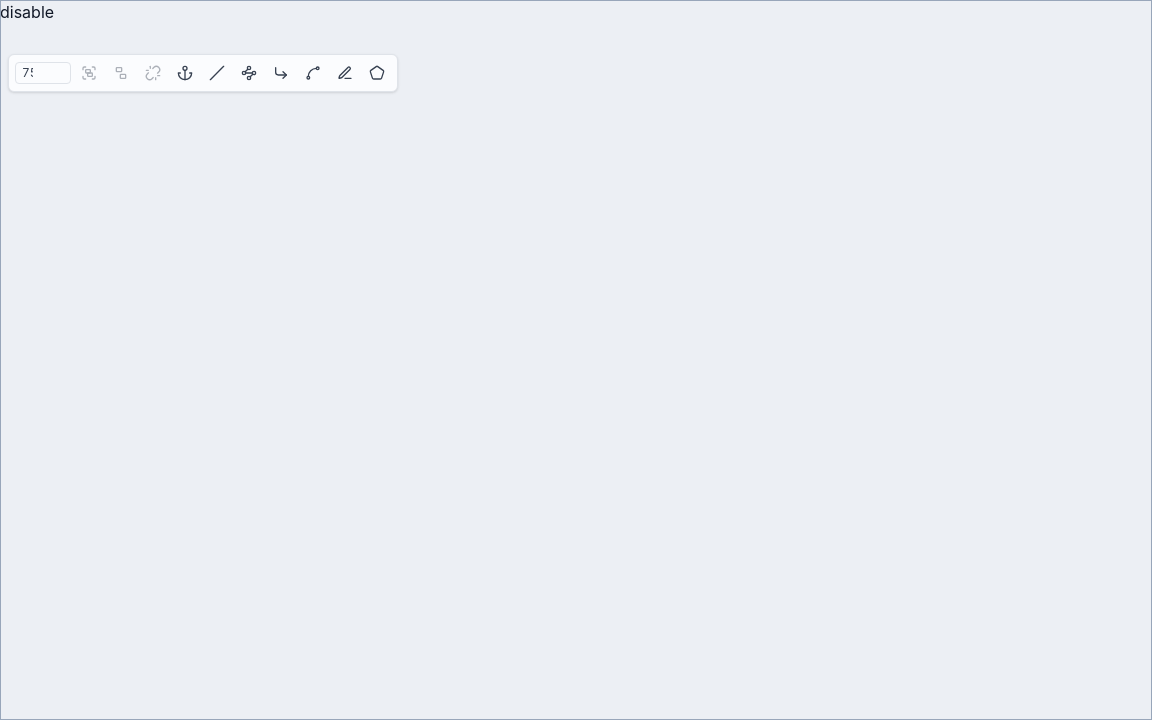
Test: 선과 텍스트에는 더할 수 없고, 그 사실을 화면이 말한다 (AC-24) › 도구를 끄면 안내가 걷힌다 — 그 도구에 대한 말이기 때문이다
Click the button with test id "canvas-anchor-tool".
click(185, 73)  # box 171,59 -> 199,87
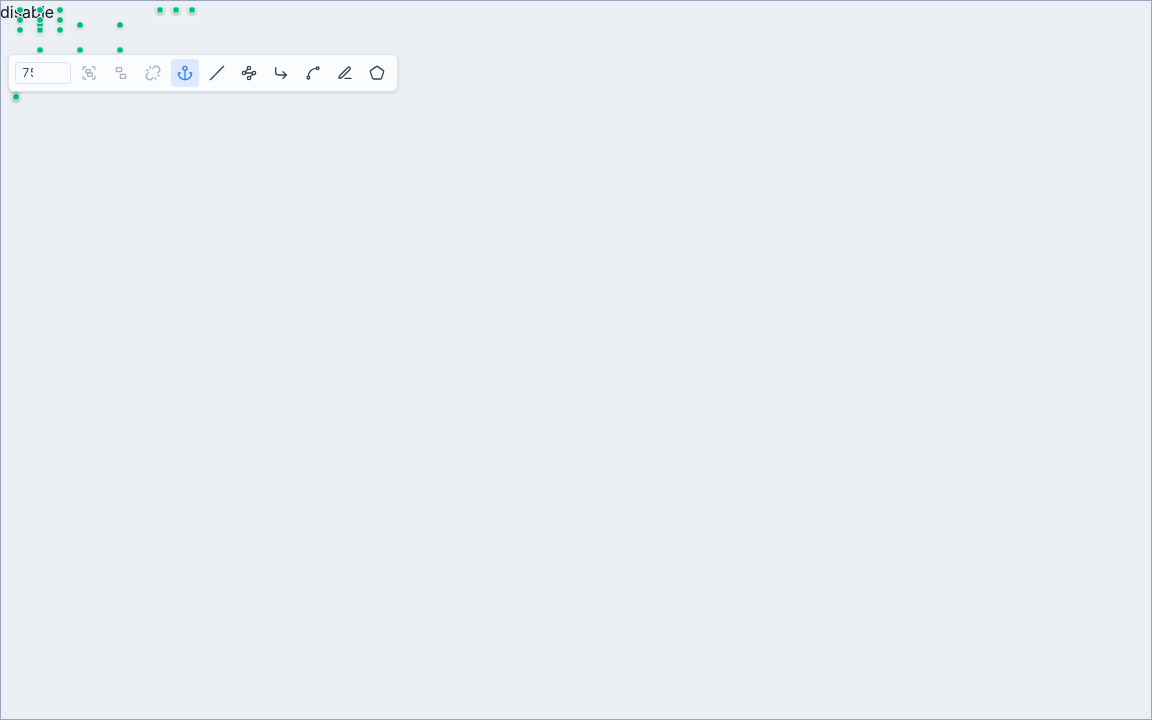
Now the button with test id "canvas-anchor-tool" is pressed, box 171,59 -> 199,87
Press the mouse on the element with test id "canvas-edit-overlay" at (576, 360), box 0,0 -> 1151,719
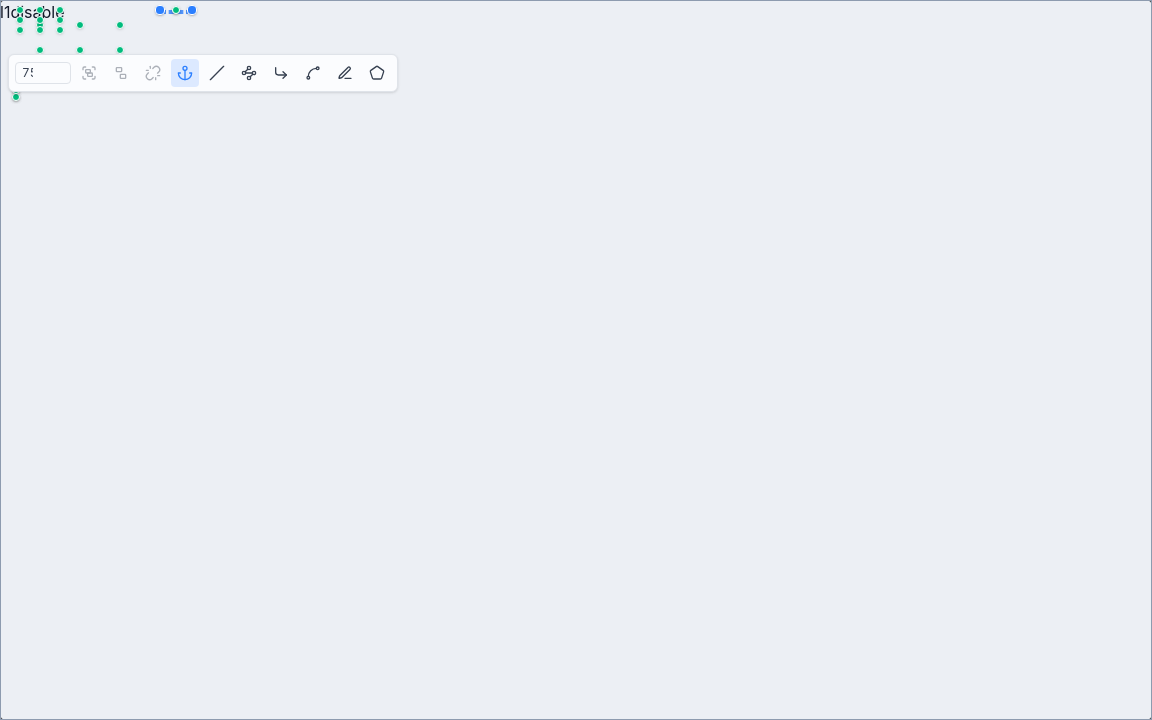
Press the mouse on the element with test id "canvas-edit-overlay" at (576, 360), box 0,0 -> 1151,719
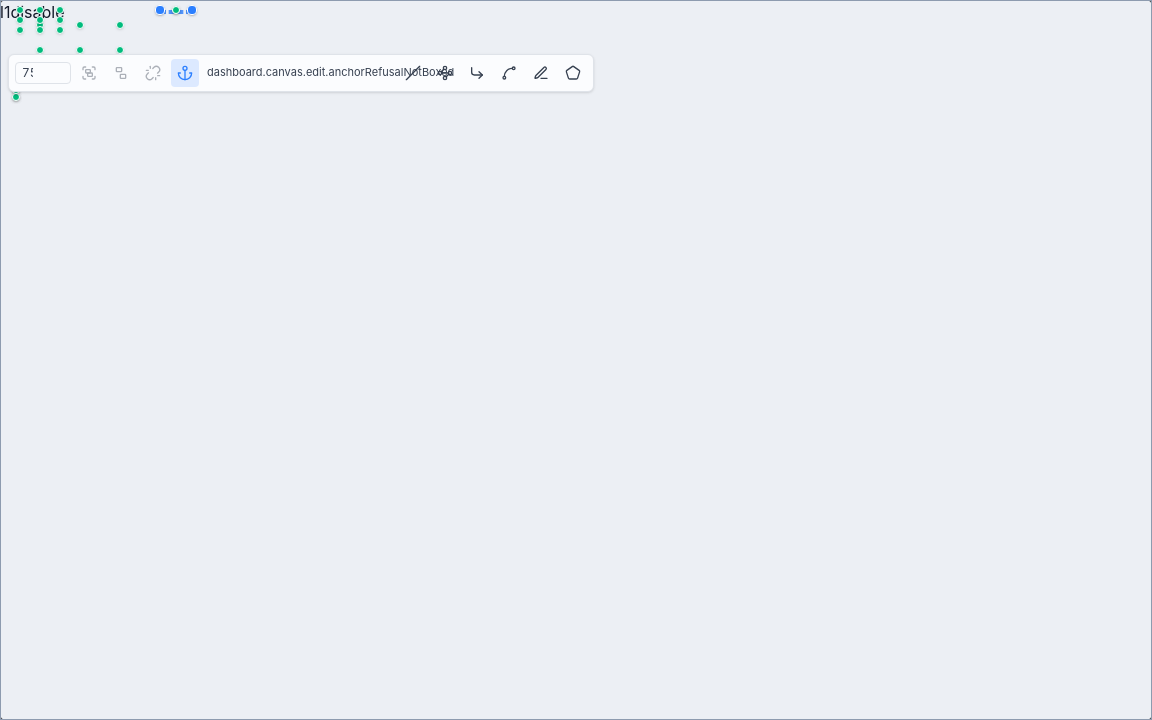
Now the message "dashboard.canvas.edit.anchorRefusalNotBoxed" is shown, box 203,65 -> 395,80
Click the button with test id "canvas-anchor-tool".
click(185, 73)  # box 171,59 -> 199,87
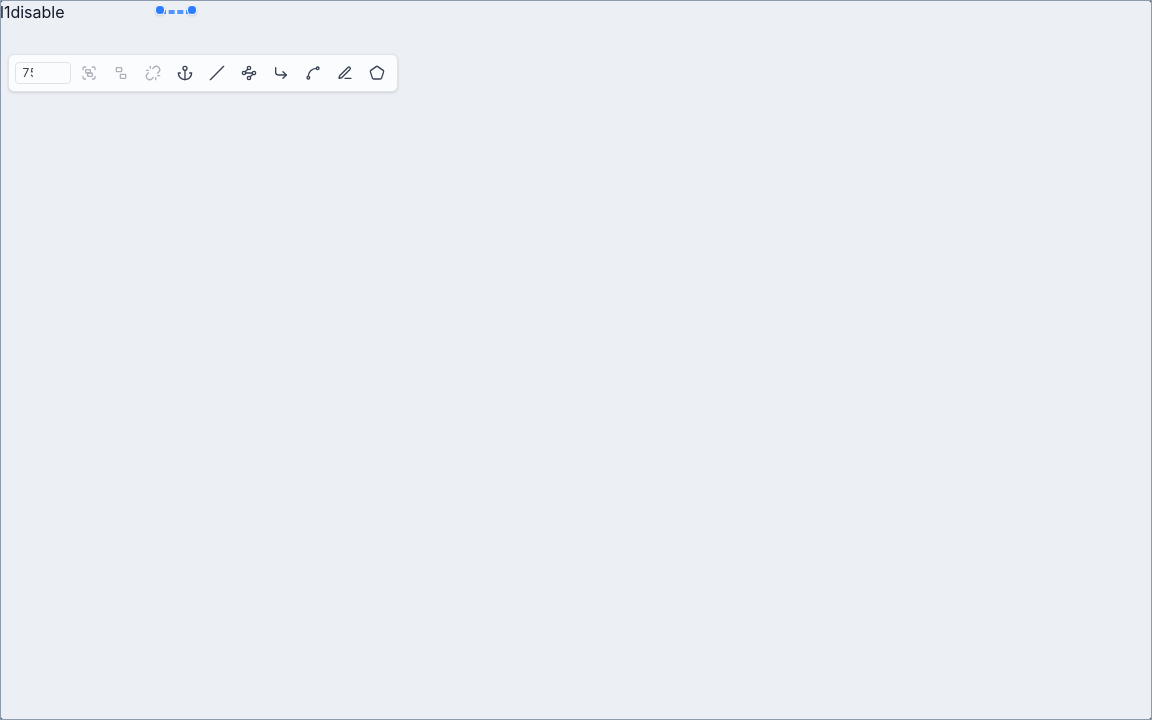
Now the message with test id "canvas-anchor-refusal" is gone
